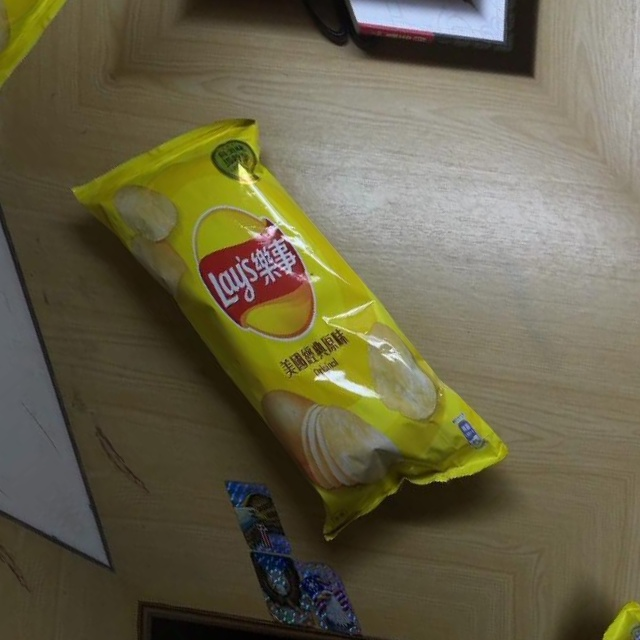Lay-s-original: (45, 70, 526, 585)
